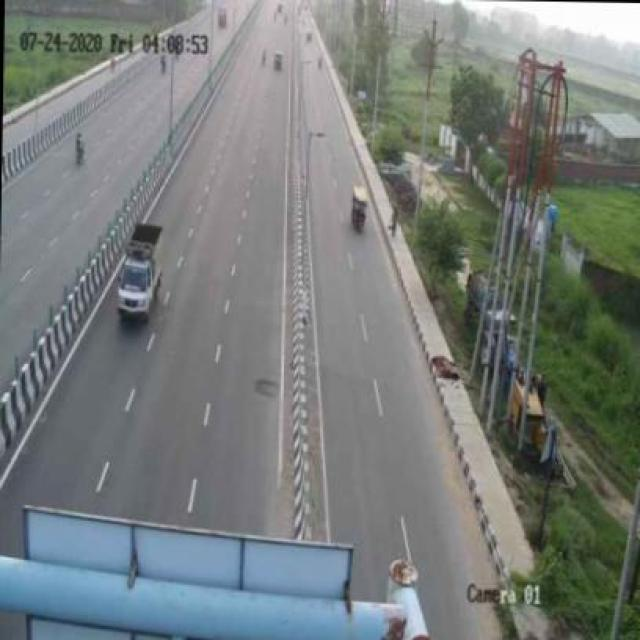car: (105, 215, 173, 329)
